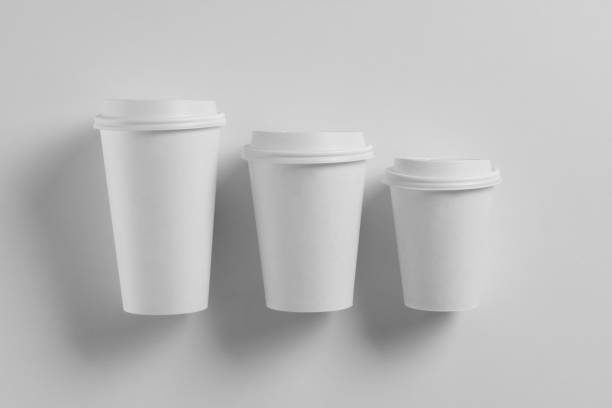Cup: (43, 80, 244, 338), (246, 113, 377, 332), (383, 142, 519, 321)
